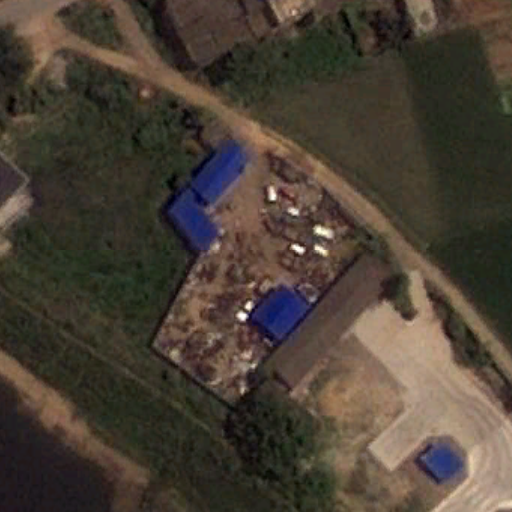msw: (163, 165, 366, 402)
